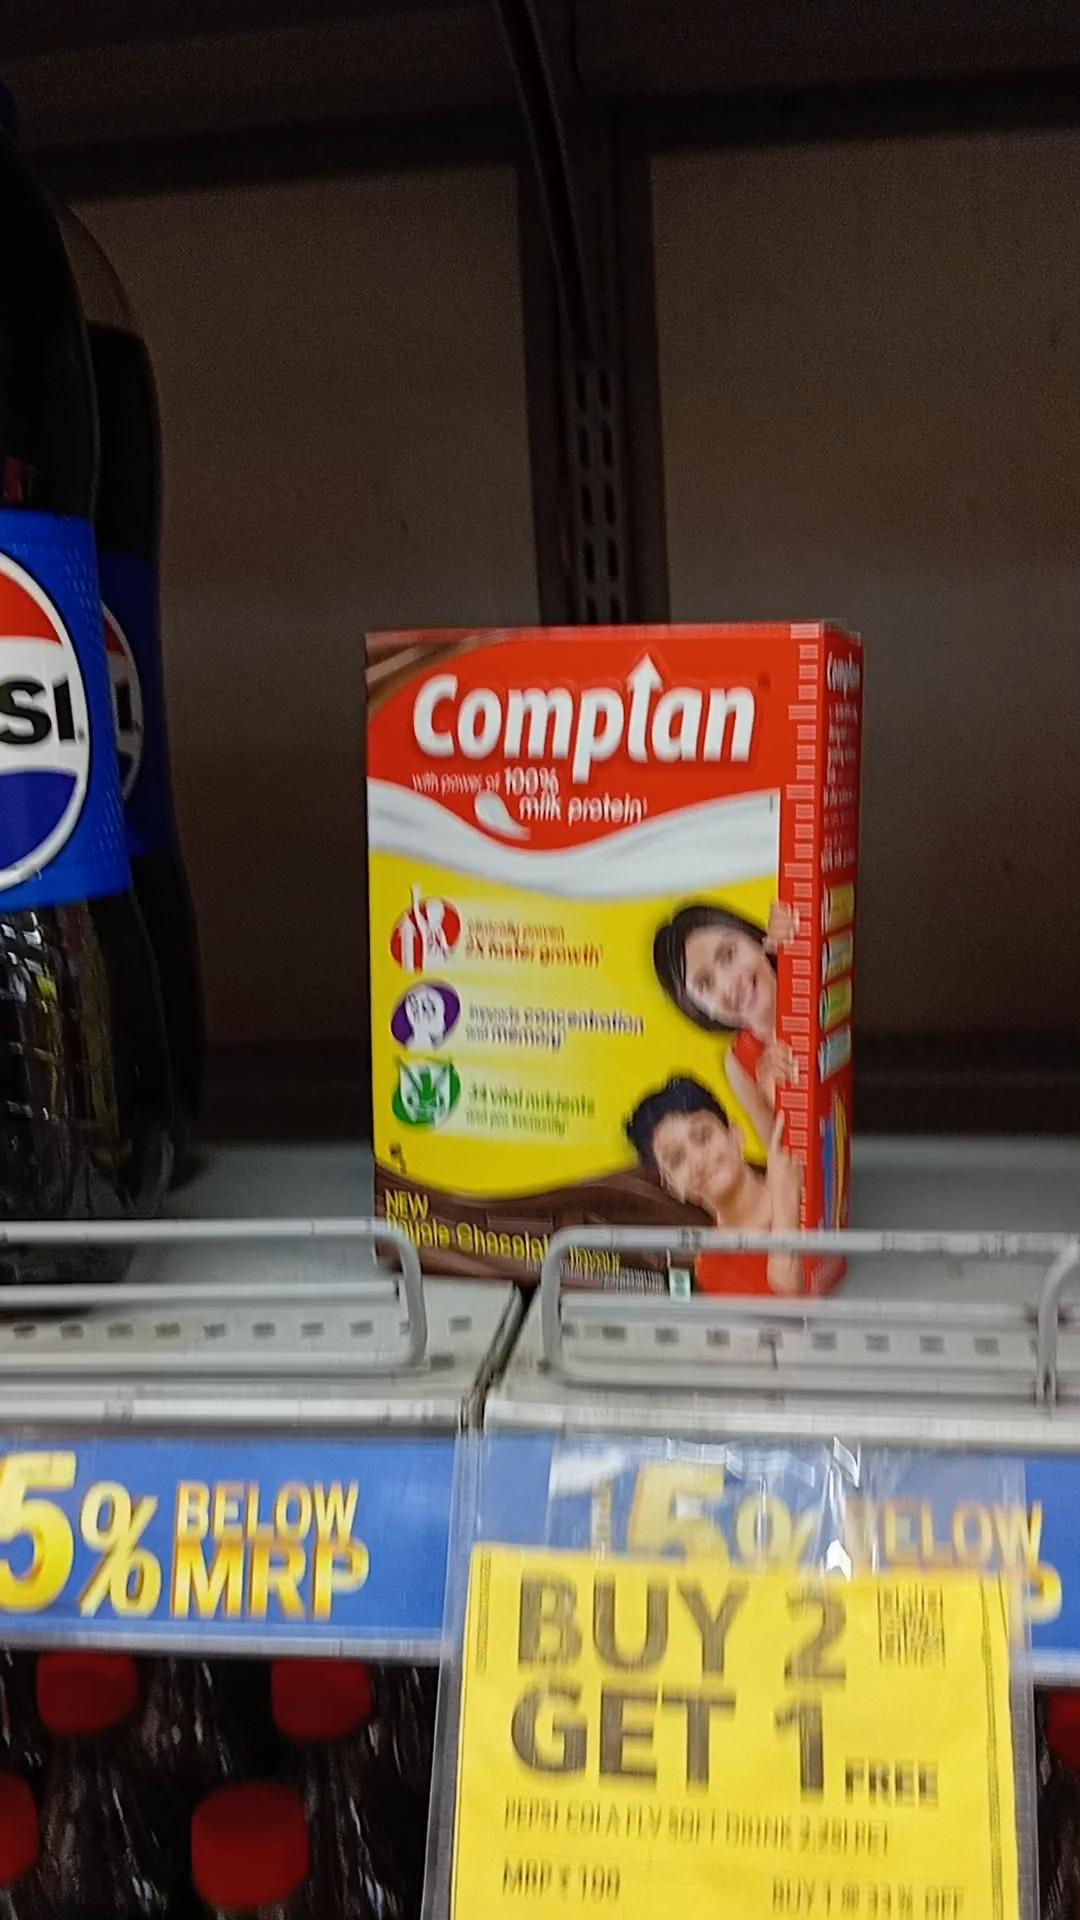COMPLAN_CHOCOLATE_200_GMS_PACK: (367, 626, 814, 1299)
